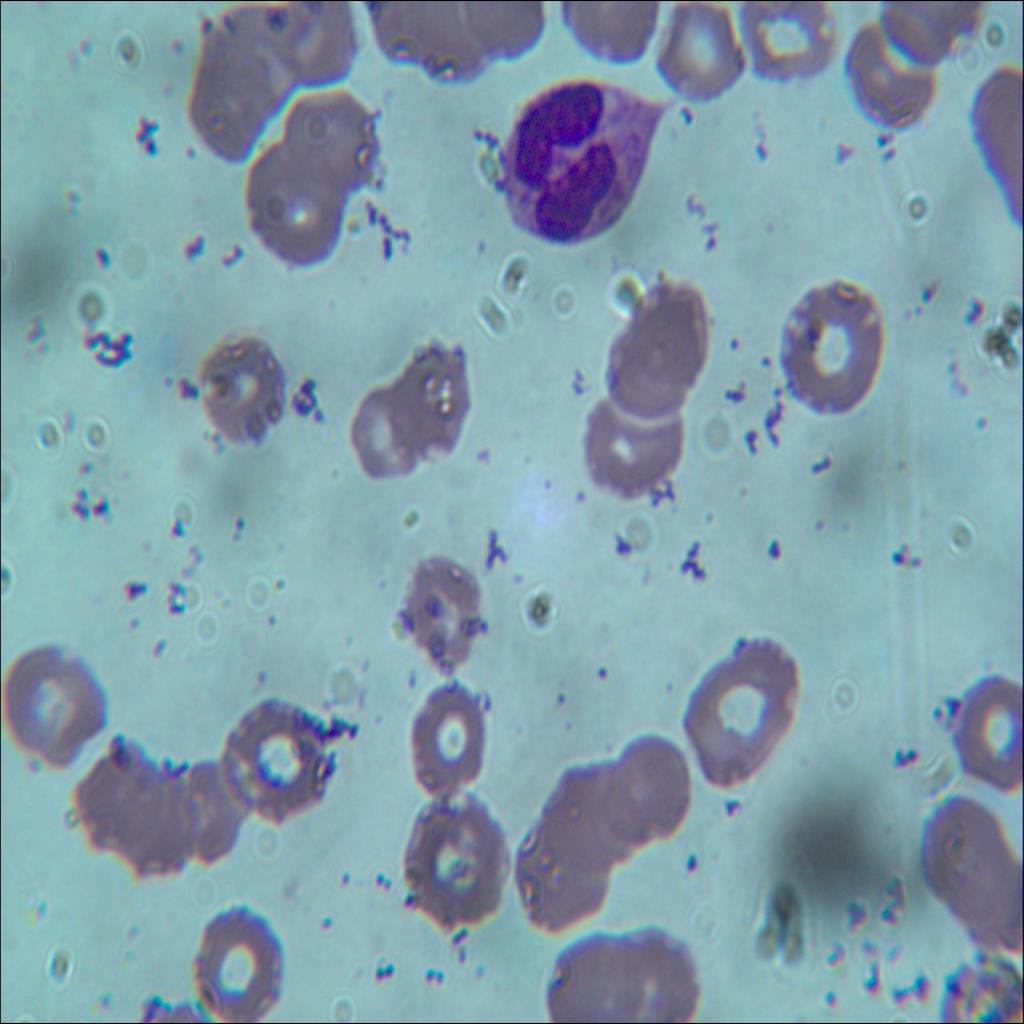Eritrosit: (679, 636, 802, 784), (604, 278, 709, 422), (786, 282, 888, 421), (0, 645, 106, 769), (406, 796, 506, 925), (578, 385, 686, 499), (229, 699, 326, 821), (246, 148, 344, 268), (186, 24, 271, 158), (918, 792, 1011, 914), (188, 909, 284, 1022), (518, 818, 608, 938), (283, 87, 383, 192), (191, 335, 286, 440), (401, 542, 478, 669), (546, 768, 644, 865), (406, 681, 484, 802), (78, 737, 158, 854), (258, 4, 368, 89), (846, 21, 934, 125), (604, 734, 690, 840), (544, 932, 643, 1023), (955, 671, 1023, 796), (219, 2, 293, 115), (661, 2, 748, 98), (123, 768, 198, 876), (736, 1, 835, 81), (615, 926, 696, 1023), (402, 338, 471, 449), (175, 757, 248, 859), (350, 374, 421, 476)
Neutrofil: (494, 76, 666, 247)
Platelet: (818, 984, 853, 1023), (678, 845, 709, 888), (958, 288, 984, 329), (830, 134, 853, 174), (63, 32, 93, 59), (724, 319, 742, 362), (748, 340, 770, 374), (170, 26, 186, 68), (198, 12, 216, 44), (548, 689, 570, 713), (593, 658, 610, 684)
